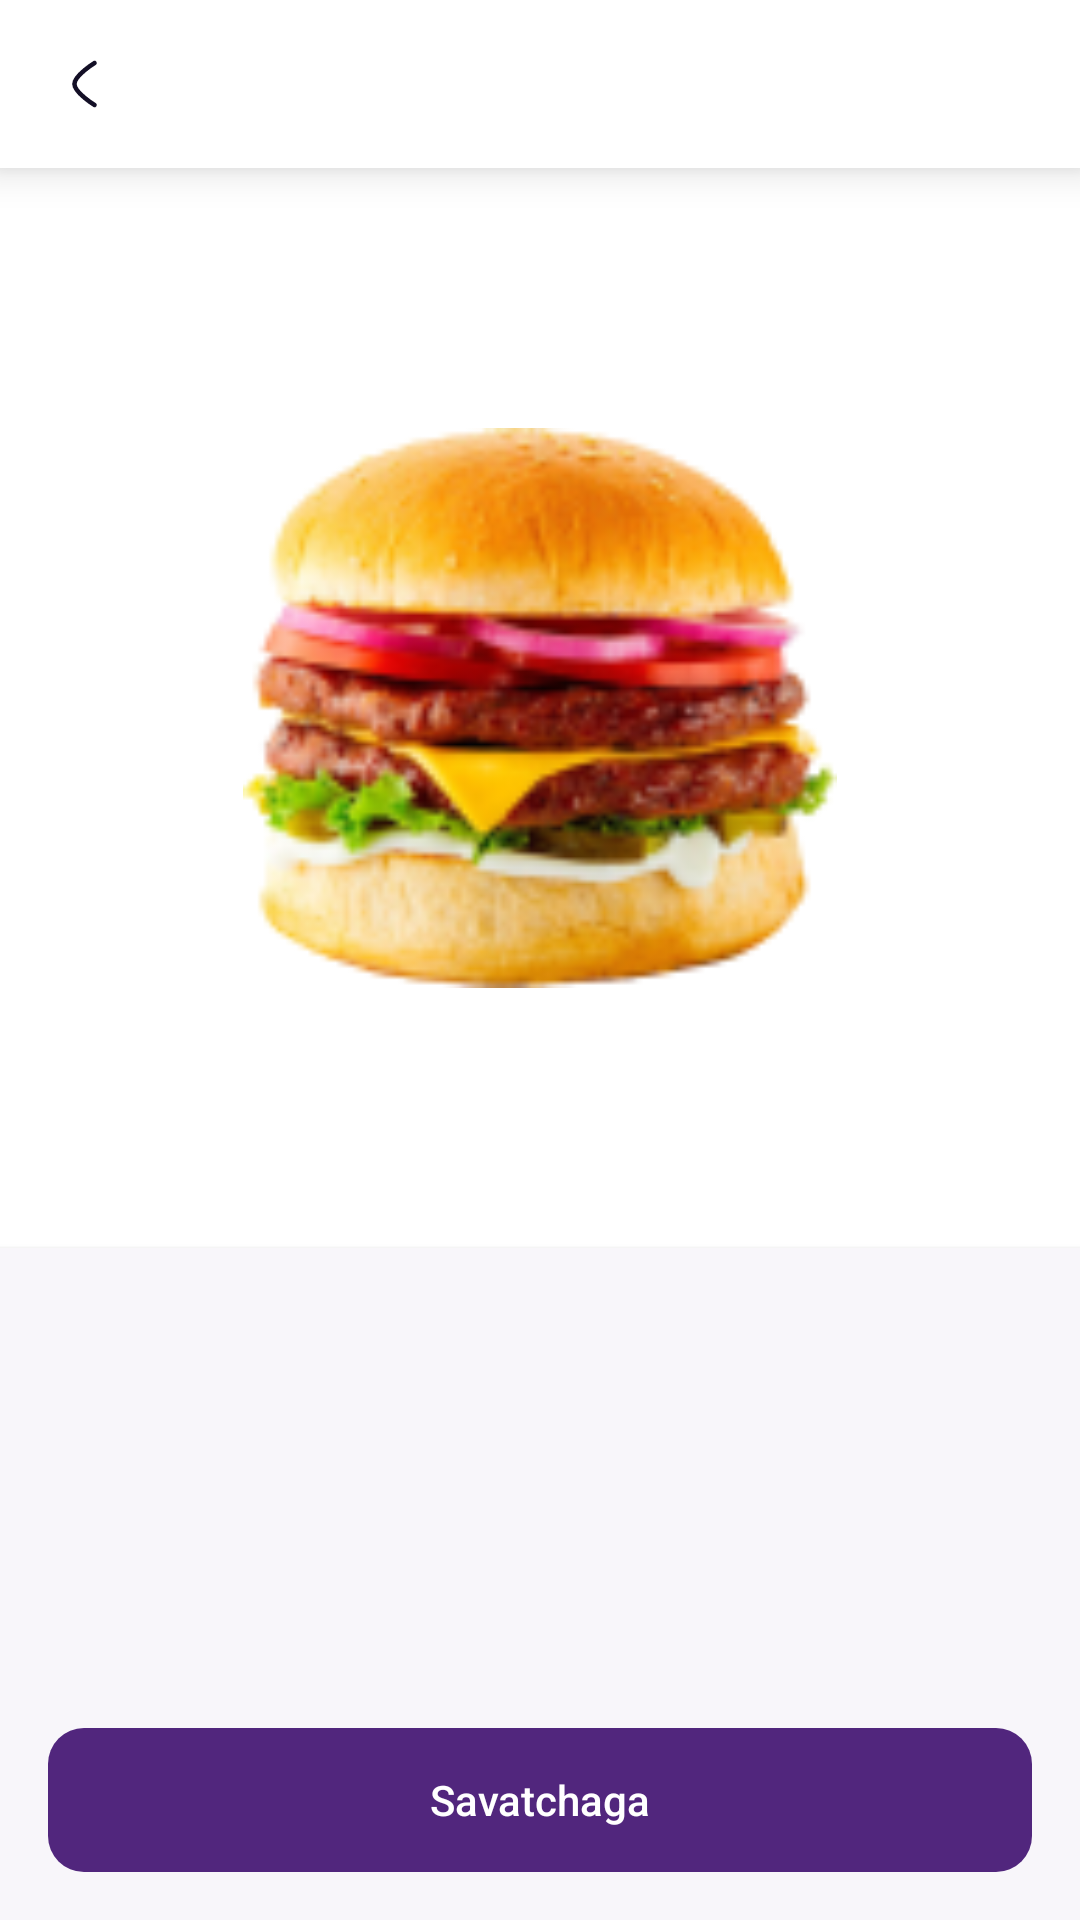

Named icons in this screenshot (1080×1920) and their centers, (x,y):
left: (84,84)
